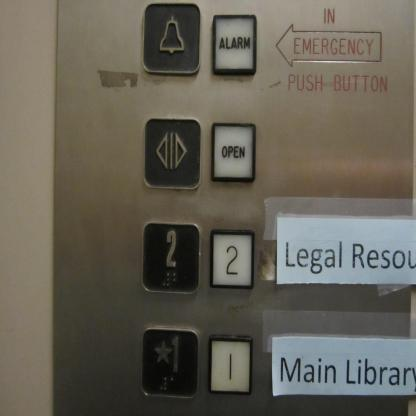1: (206, 326, 256, 402)
2: (137, 214, 204, 302), (208, 224, 259, 296)
alarm: (139, 1, 204, 81)
open: (141, 115, 205, 195)
s1: (138, 322, 202, 401)
text_alarm bell: (209, 12, 259, 79)
text_open door: (209, 120, 258, 186)
